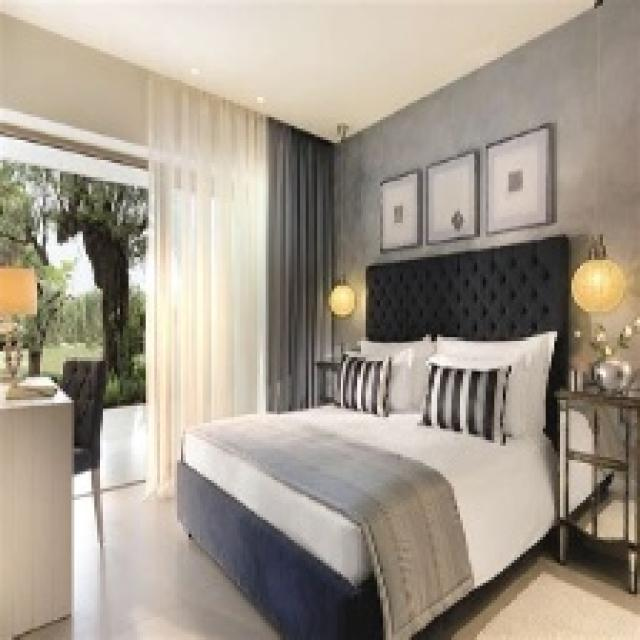Bed: (174, 232, 572, 637)
